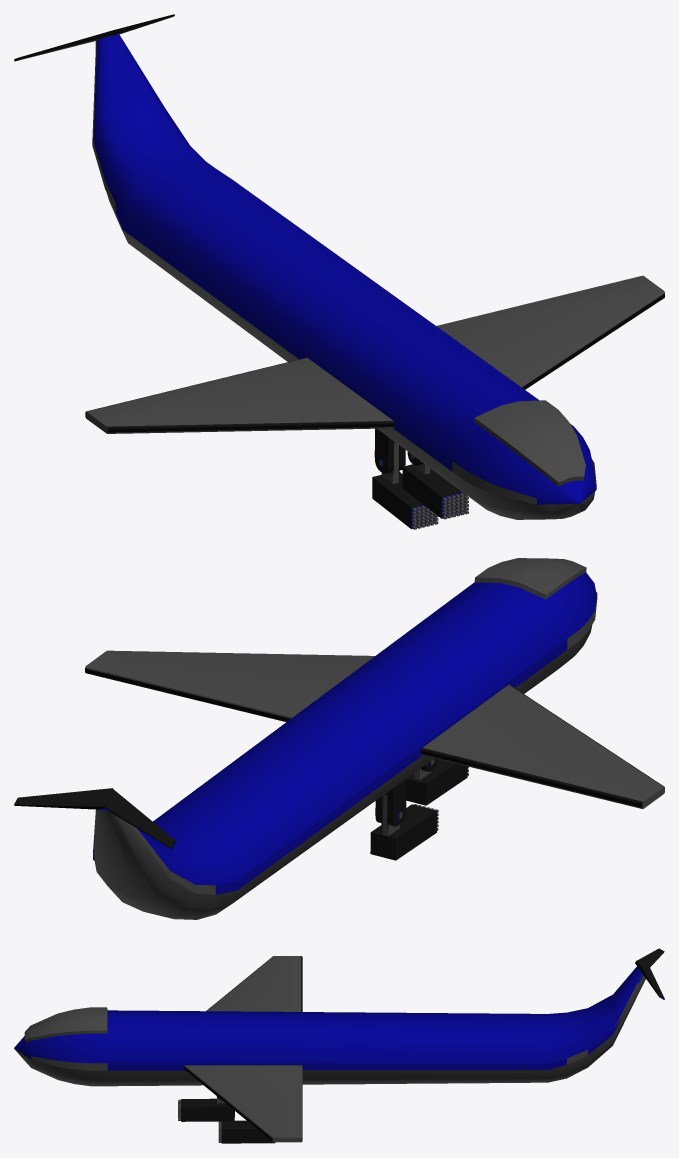
Rendered from Plane_Human.FBX.
3 views of the same model, one above another, from view 1: azimuth 30°, elevation 25°; view 2: azimuth 150°, elevation 25°; view 3: azimuth 270°, elevation 25° (orthographic). The views are drawn at different scales.
Visible parts, largest first — view 1: Box002, Box001, Box005, Box003; view 2: Box002, Box001, Box005, Box003; view 3: Box002, Box001, Box005, Box003.
Part boxes in pixels (x1,y1,x2,y2): Box002: (92, 34, 596, 519); Box001: (85, 275, 664, 433); Box005: (372, 464, 468, 529); Box003: (14, 14, 174, 61); Box002: (93, 558, 597, 919); Box001: (85, 650, 664, 808); Box005: (370, 759, 468, 860); Box003: (14, 788, 175, 849); Box002: (14, 966, 645, 1100); Box001: (184, 956, 302, 1142); Box005: (178, 1098, 275, 1143); Box003: (635, 948, 664, 999).
Bounding box in the file's own units: 150 × 69.08 × 227.
